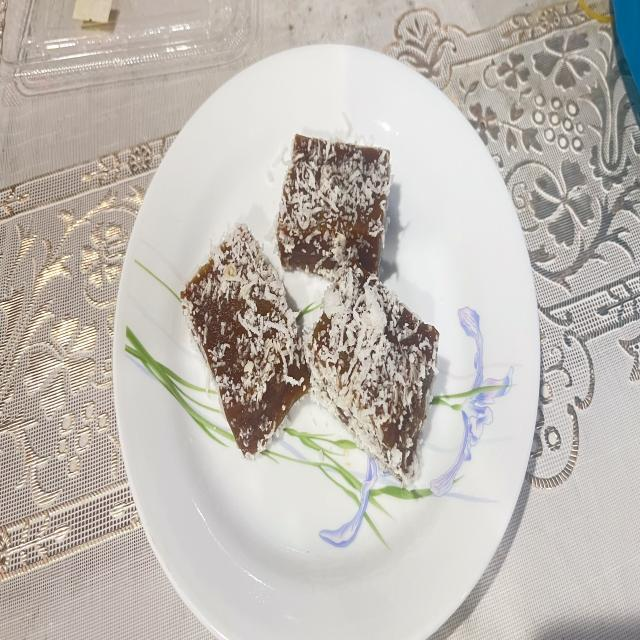kaswi: (304, 262, 439, 487), (181, 224, 310, 458), (276, 136, 390, 278)
